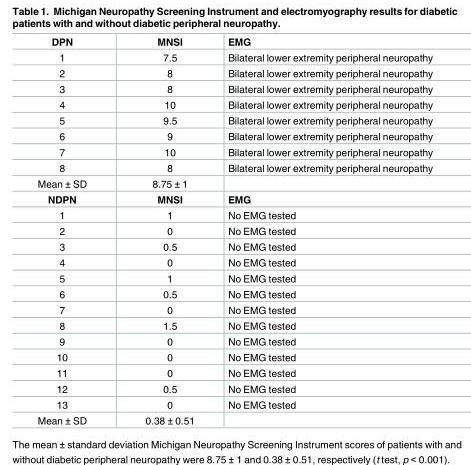table: (36, 36, 431, 425)
table column: (210, 36, 431, 425), (115, 36, 210, 425), (36, 36, 115, 425)
table row: (36, 49, 431, 65), (36, 65, 431, 81), (36, 81, 431, 97), (36, 112, 431, 128), (36, 128, 431, 144), (36, 144, 431, 160), (36, 175, 431, 191), (36, 191, 431, 207), (36, 207, 431, 223), (36, 223, 431, 239), (36, 254, 431, 270), (36, 270, 431, 286), (36, 286, 431, 302), (36, 302, 431, 318), (36, 333, 431, 349), (36, 349, 431, 365), (36, 365, 431, 381), (36, 396, 431, 412), (36, 97, 431, 112), (36, 160, 431, 175), (36, 239, 431, 254), (36, 318, 431, 333), (36, 381, 431, 396), (36, 36, 431, 49), (36, 412, 431, 425)
